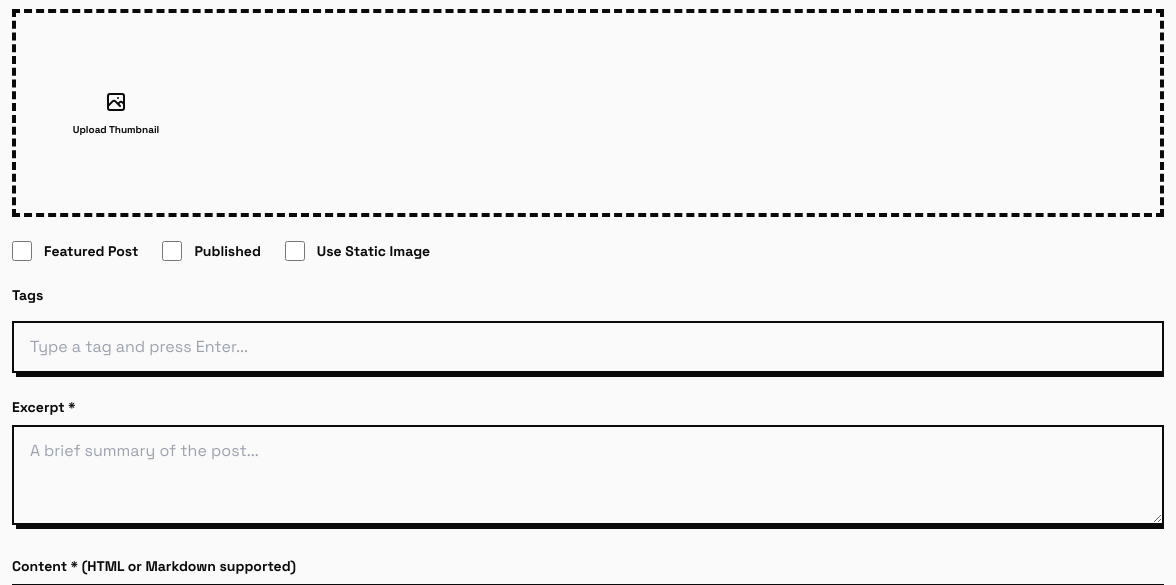
Test: PostForm › allows adding and removing tags
(page scrolled)
Note:  Add tag
In the field with placeholder "Type a tag and press Enter...": [588, 347] box [12,321,1164,373], type "newtag"
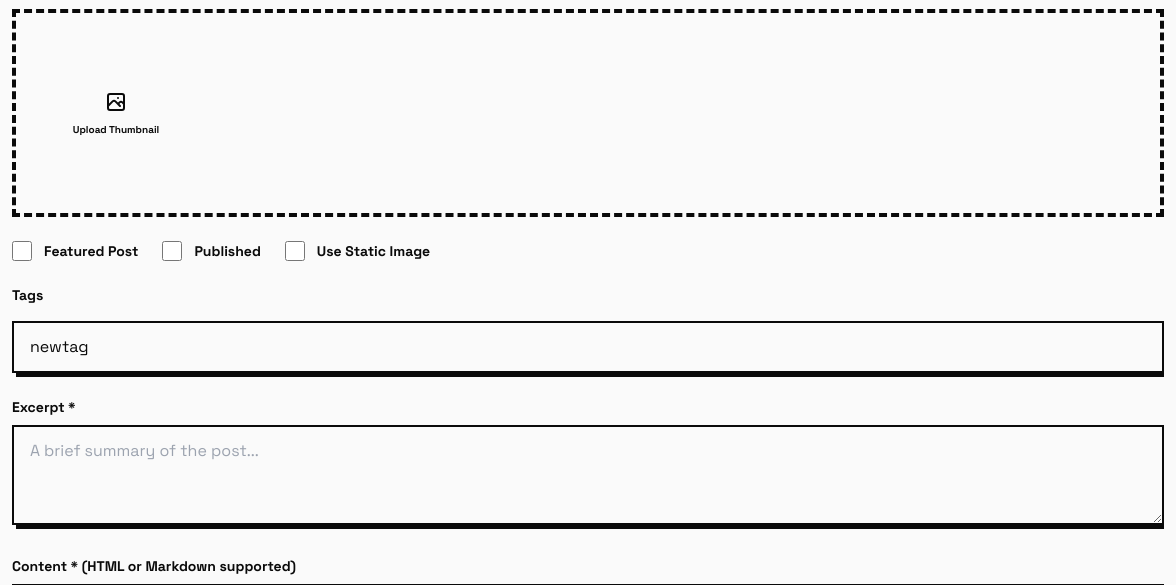
Press Enter in the field with placeholder "Type a tag and press Enter...", box [12,321,1164,373]
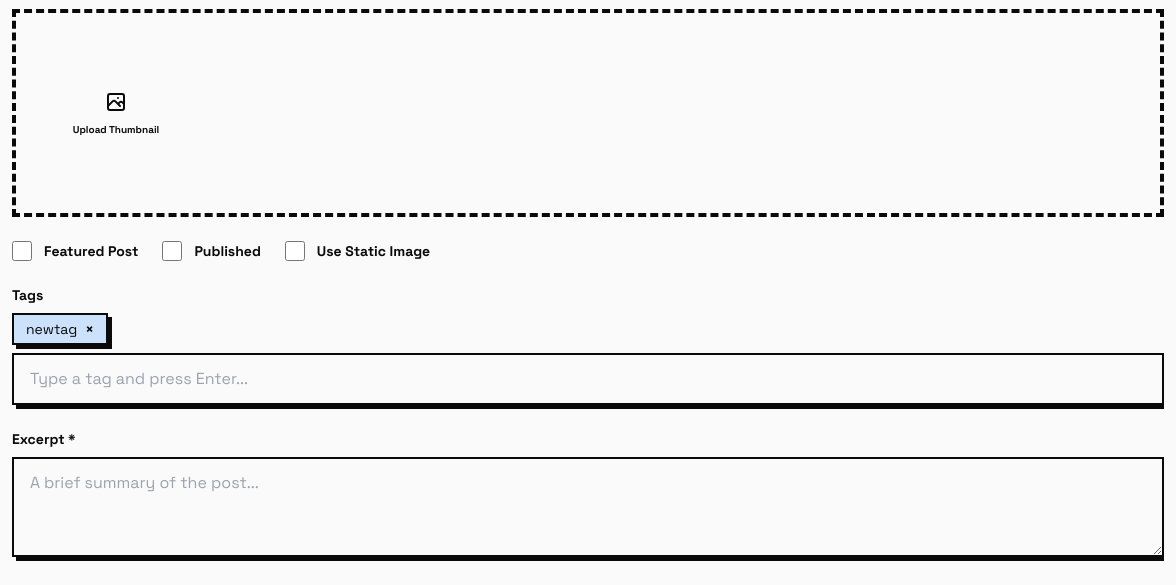
Now the text "newtag" is shown, box [26,320,77,338]
Note: Remove tag
Click the button "×": [90, 329] box [85,319,94,339]
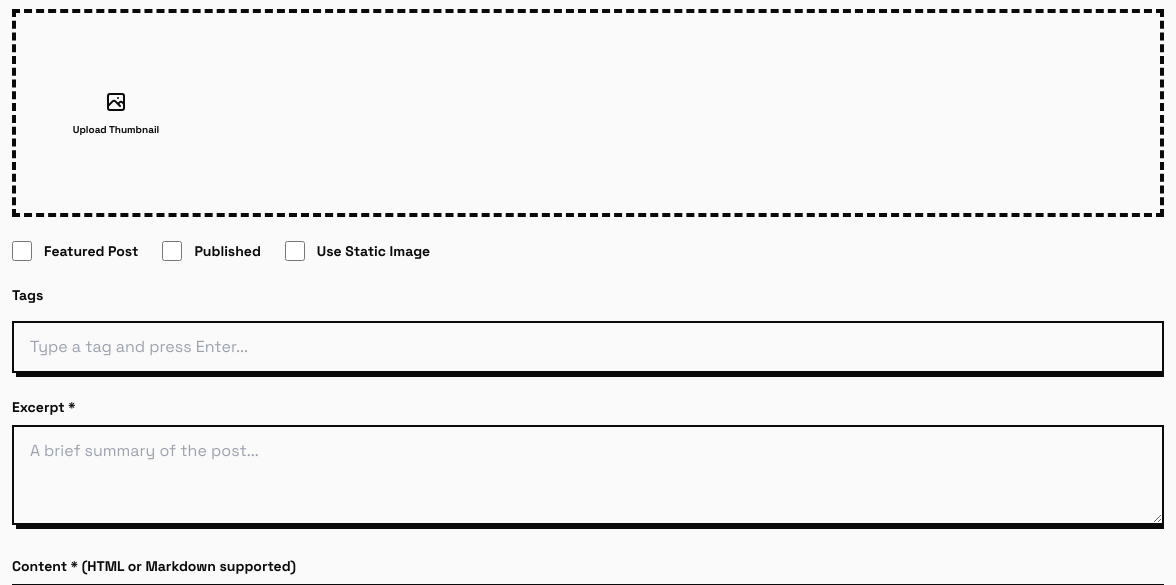
Now the text "newtag" is gone
